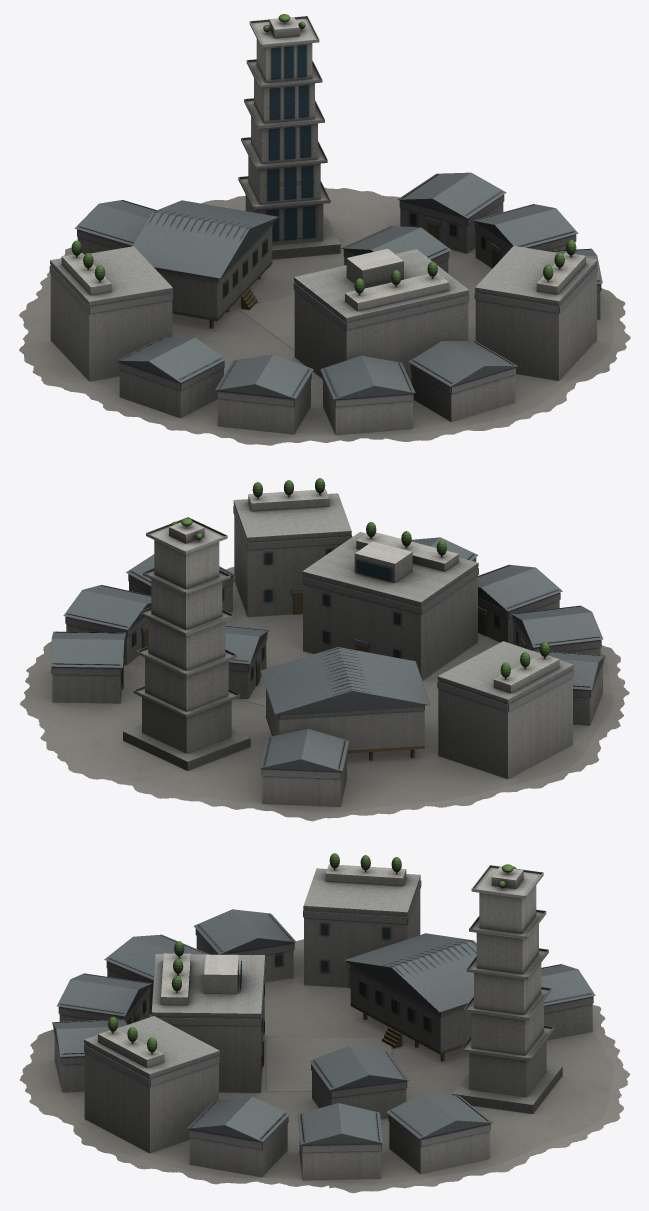
Rendered from modern-town-medium-b-monsoon.glb.
The picture shows the model from 3 angles, top to bottom: view 1: azimuth 30°, elevation 25°; view 2: azimuth 150°, elevation 25°; view 3: azimuth 270°, elevation 25°; orthographic projection.
Parts seen in each view (by area): view 1: LOD0; view 2: LOD0; view 3: LOD0.
Boxes of the visible parts, x1,y1,x2,y2 form: LOD0: (19,14,630,445); LOD0: (20,478,629,821); LOD0: (20,853,630,1193).
Size of what is drawn, in the model's own units: 6.02 by 2.4 by 5.95.
Materials: 3 (3 with a texture image).
